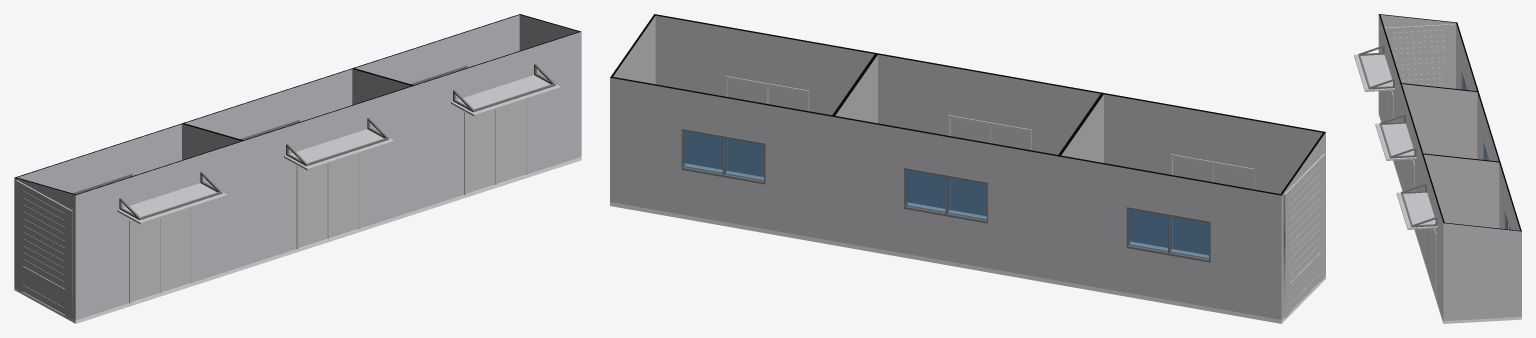
3 renders of one model, left to right at view 1: azimuth 30°, elevation 25°; view 2: azimuth 150°, elevation 25°; view 3: azimuth 270°, elevation 25°, orthographic. The views are drawn at different scales.
Visible parts, largest first — view 1: V_폐기물저장소_19동_벽, V_폐기물저장소_19동_문, V_폐기물저장소_19동_캐노피, V_폐기물저장소_19동_셔터, V_폐기물저장소_19동_바닥, V_폐기물저장소_19동_창문; view 2: V_폐기물저장소_19동_벽, V_폐기물저장소_19동_창문, V_폐기물저장소_19동_문, V_폐기물저장소_19동_셔터, V_폐기물저장소_19동_바닥; view 3: V_폐기물저장소_19동_벽, V_폐기물저장소_19동_캐노피, V_폐기물저장소_19동_셔터, V_폐기물저장소_19동_문, V_폐기물저장소_19동_바닥, V_폐기물저장소_19동_창문.
Boxes of the visible parts, bbox=[...] form: V_폐기물저장소_19동_벽: bbox=[14, 14, 581, 320]; V_폐기물저장소_19동_문: bbox=[129, 99, 527, 303]; V_폐기물저장소_19동_캐노피: bbox=[117, 64, 561, 224]; V_폐기물저장소_19동_셔터: bbox=[16, 180, 72, 318]; V_폐기물저장소_19동_바닥: bbox=[14, 157, 581, 323]; V_폐기물저장소_19동_창문: bbox=[72, 65, 467, 194]; V_폐기물저장소_19동_벽: bbox=[610, 14, 1325, 319]; V_폐기물저장소_19동_창문: bbox=[681, 128, 1210, 262]; V_폐기물저장소_19동_문: bbox=[725, 76, 1254, 255]; V_폐기물저장소_19동_셔터: bbox=[1280, 154, 1325, 317]; V_폐기물저장소_19동_바닥: bbox=[610, 163, 1325, 323]; V_폐기물저장소_19동_벽: bbox=[1378, 14, 1521, 320]; V_폐기물저장소_19동_캐노피: bbox=[1354, 45, 1437, 229]; V_폐기물저장소_19동_셔터: bbox=[1384, 24, 1453, 88]; V_폐기물저장소_19동_문: bbox=[1384, 90, 1436, 298]; V_폐기물저장소_19동_바닥: bbox=[1378, 112, 1521, 323]; V_폐기물저장소_19동_창문: bbox=[1461, 70, 1511, 229].
Size of the model in its own units: 16.27 by 3.58 by 5.4.
